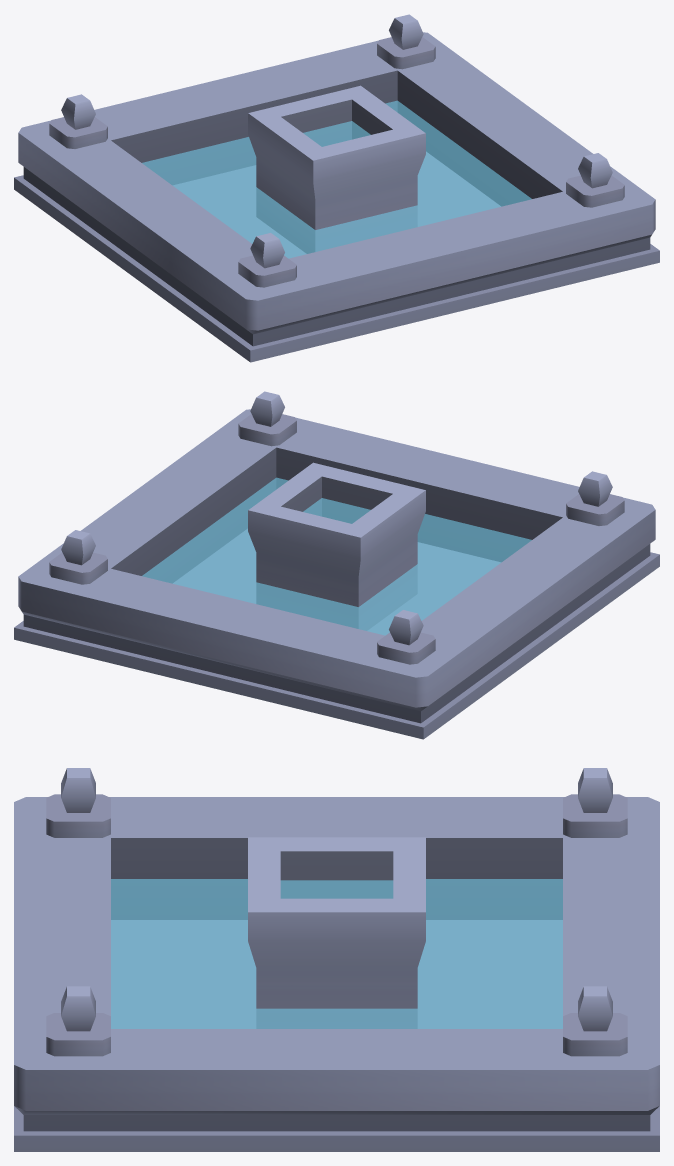
File: kenney-fantasy-town-fountain-square-detail.glb
The picture shows the model from 3 angles, top to bottom: view 1: azimuth 30°, elevation 25°; view 2: azimuth 150°, elevation 25°; view 3: azimuth 270°, elevation 25°; orthographic projection. The views are drawn at different scales.
Visible parts, largest first — view 1: fountain-square-detail, (%ignore); view 2: fountain-square-detail, (%ignore); view 3: fountain-square-detail, (%ignore).
Part boxes in pixels (left/top/right/bottom): fountain-square-detail: left=14, top=14, right=659, bottom=362; (%ignore): left=142, top=100, right=531, bottom=258; fountain-square-detail: left=14, top=391, right=659, bottom=739; (%ignore): left=142, top=477, right=531, bottom=635; fountain-square-detail: left=14, top=768, right=659, bottom=1151; (%ignore): left=111, top=879, right=562, bottom=1028.
Size of the model in its own units: 2 by 0.48 by 2.
Materials: 2 (1 with a texture image).
